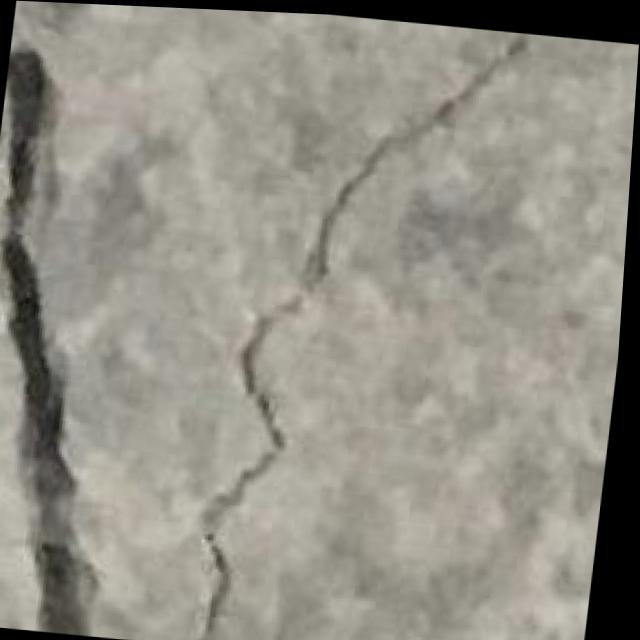Crack: (165, 7, 533, 640), (0, 33, 162, 636)
